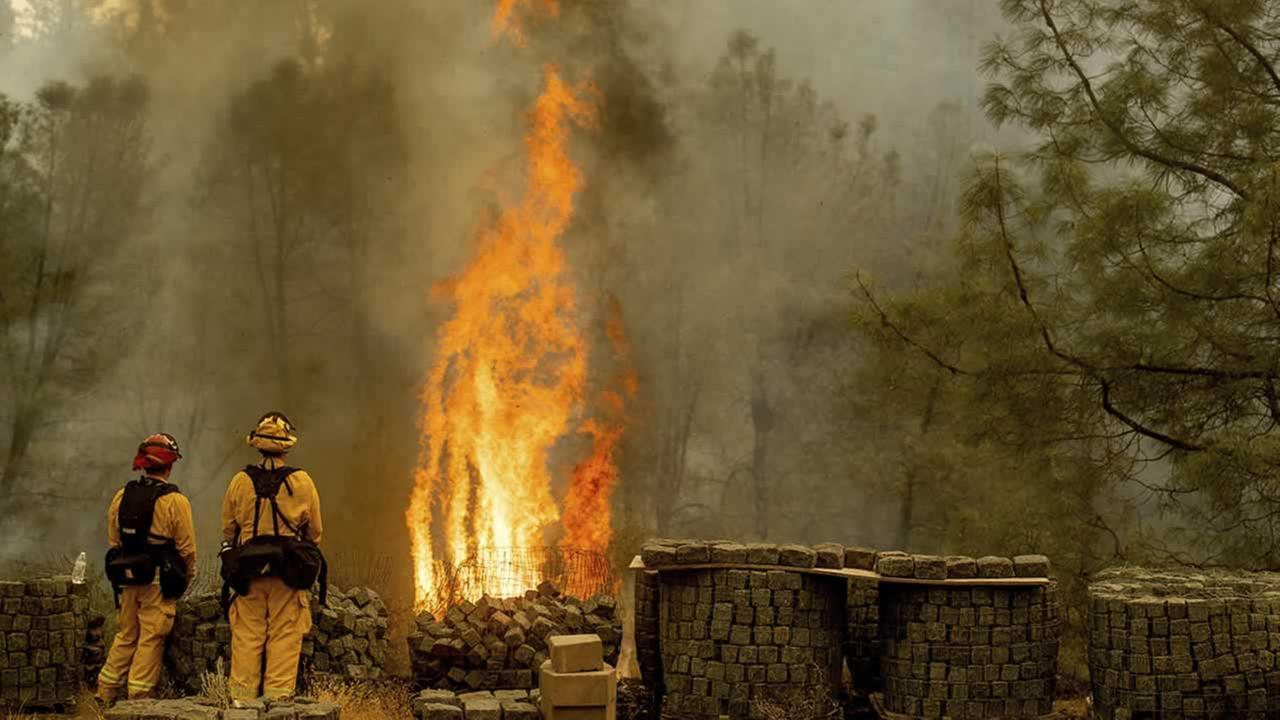Fire: (413, 22, 619, 606)
